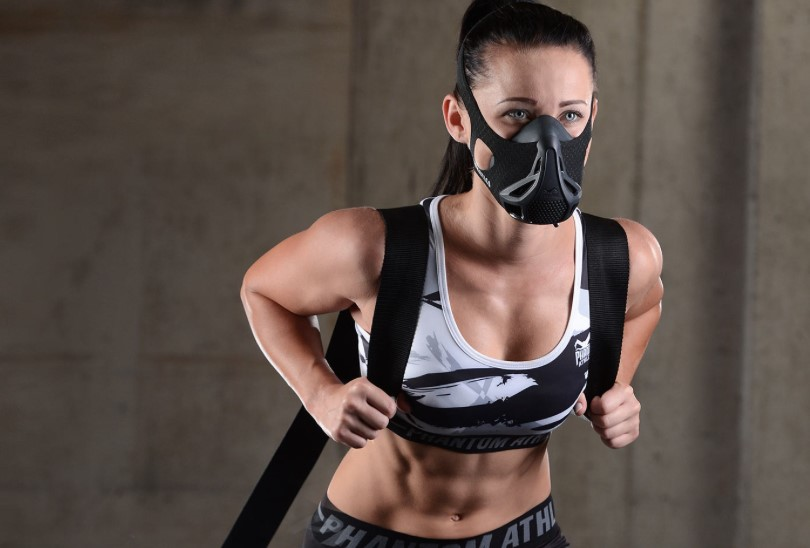face_with_mask: (442, 7, 602, 228)
